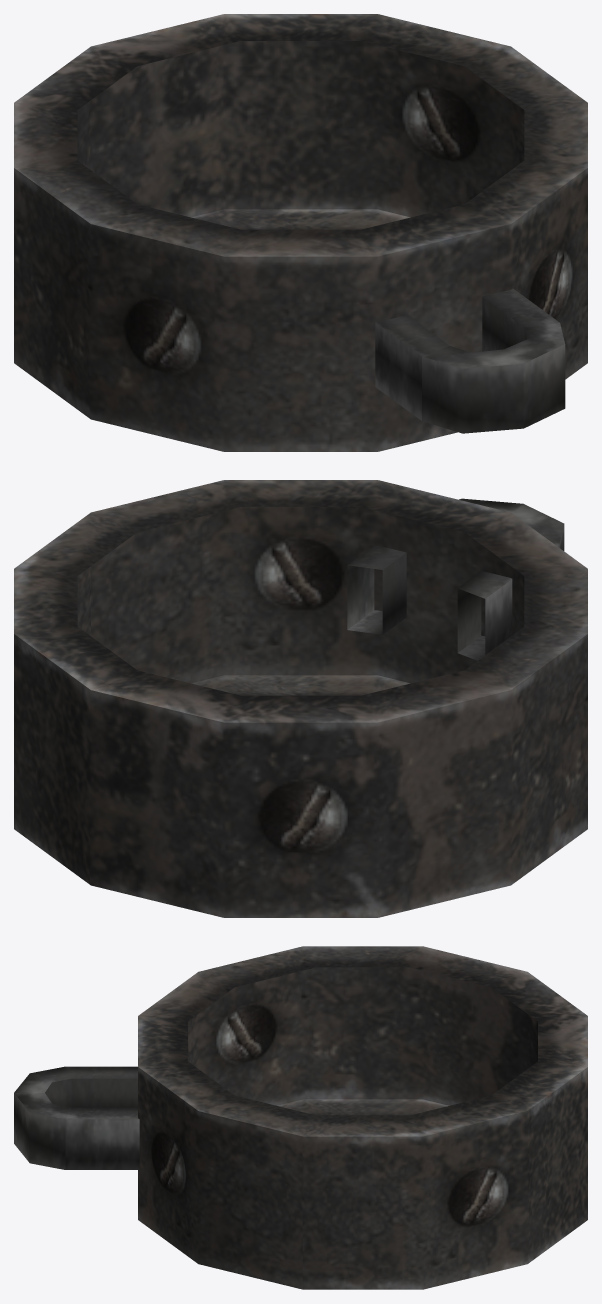
The model's file is Mast Brace.fbx.
3 renders of one model, top to bottom at view 1: azimuth 30°, elevation 25°; view 2: azimuth 150°, elevation 25°; view 3: azimuth 270°, elevation 25°, orthographic. The views are drawn at different scales.
Visible parts, largest first — view 1: mast brace; view 2: mast brace; view 3: mast brace.
Part boxes in pixels (x1,y1,x2,y2): mast brace: [14, 14, 587, 451]; mast brace: [14, 480, 587, 917]; mast brace: [14, 946, 587, 1289].
Size of the model in its own units: 40.89 by 52.17 by 15.36.
Materials: 1 (1 with a texture image).
